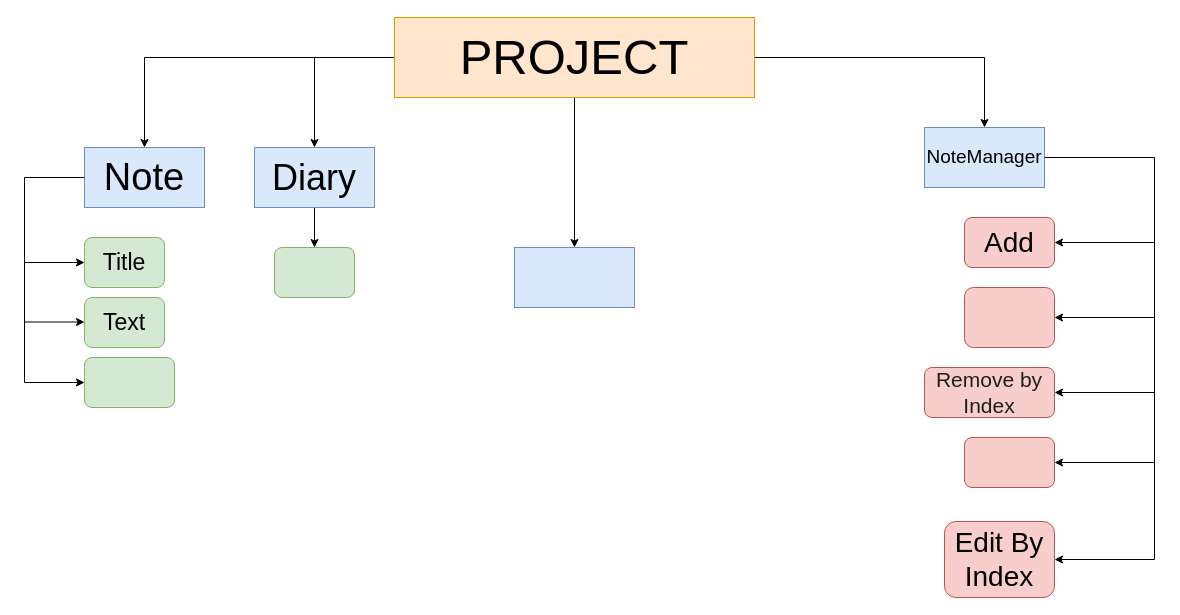
This 1180x615 diagram has some shape labels left out. Each missing label, with the centre of its shape:
"Date of register" belongs at point 129,382.
"List" belongs at point 314,272.
"Load" belongs at point 1009,317.
"Main" belongs at point 574,277.
"Save" belongs at point 1009,462.
